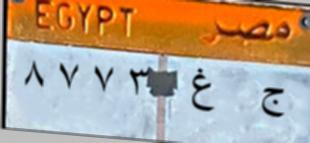3: (126, 64, 149, 99)
7: (55, 61, 81, 93), (92, 61, 115, 97)
8: (20, 58, 46, 92)
ghayn: (188, 66, 220, 120)
jeem: (258, 83, 286, 121)
